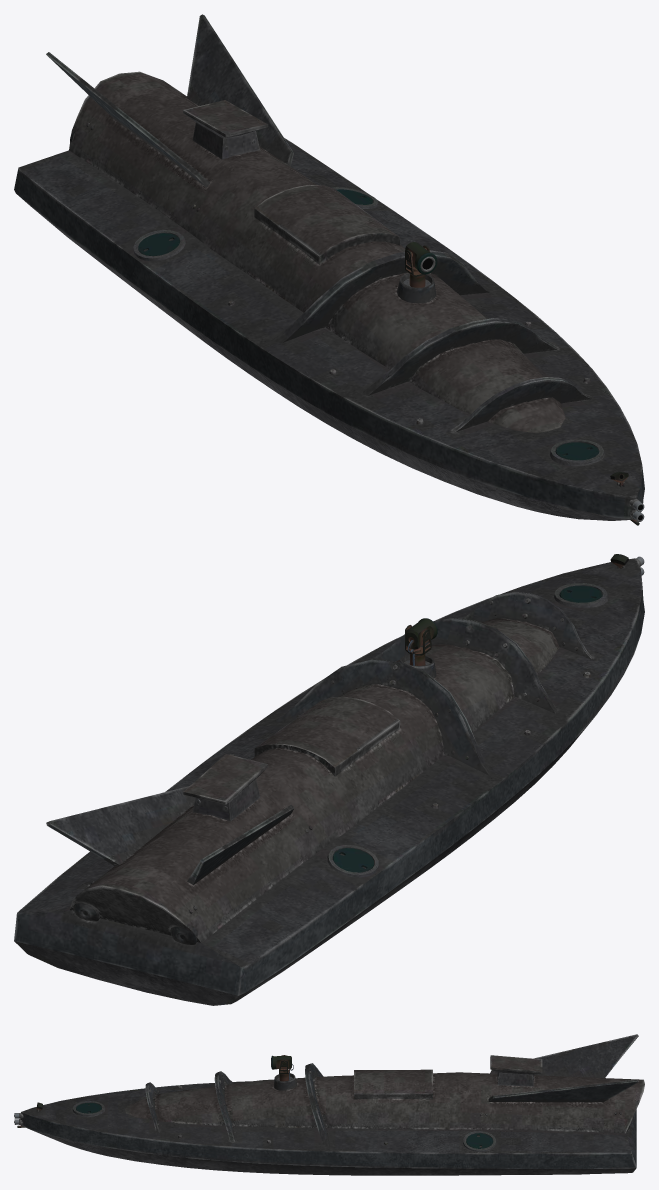
Rendered from SUP_Ukrainian_navy_maritime_drone.glb.
3 renders of one model, top to bottom at view 1: azimuth 30°, elevation 25°; view 2: azimuth 150°, elevation 25°; view 3: azimuth 270°, elevation 25°, orthographic. The views are drawn at different scales.
Parts seen in each view (by area): view 1: SUP_Ukrainian_navy_maritime_drone; view 2: SUP_Ukrainian_navy_maritime_drone; view 3: SUP_Ukrainian_navy_maritime_drone.
Part boxes in pixels (<box>): SUP_Ukrainian_navy_maritime_drone: <box>14,14,644,525</box>; SUP_Ukrainian_navy_maritime_drone: <box>14,554,644,1005</box>; SUP_Ukrainian_navy_maritime_drone: <box>14,1034,644,1175</box>.
Size of the model in its own units: 152 by 103 by 550.
Materials: 1 (1 with a texture image).
